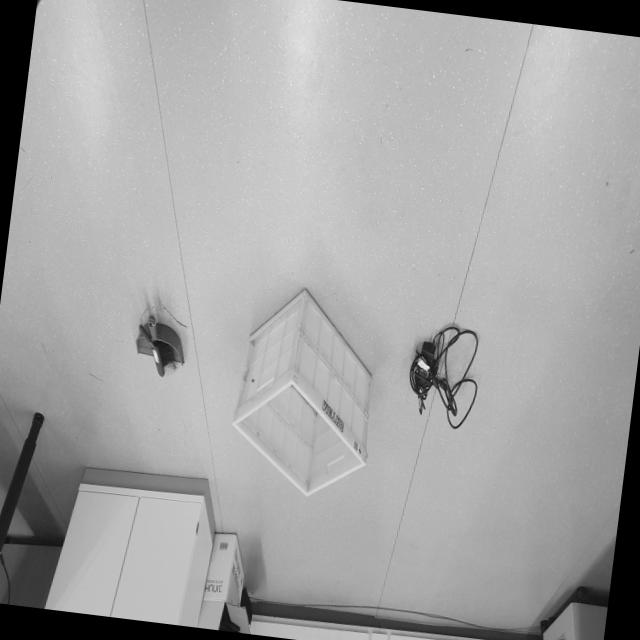box: (222, 265, 396, 508)
